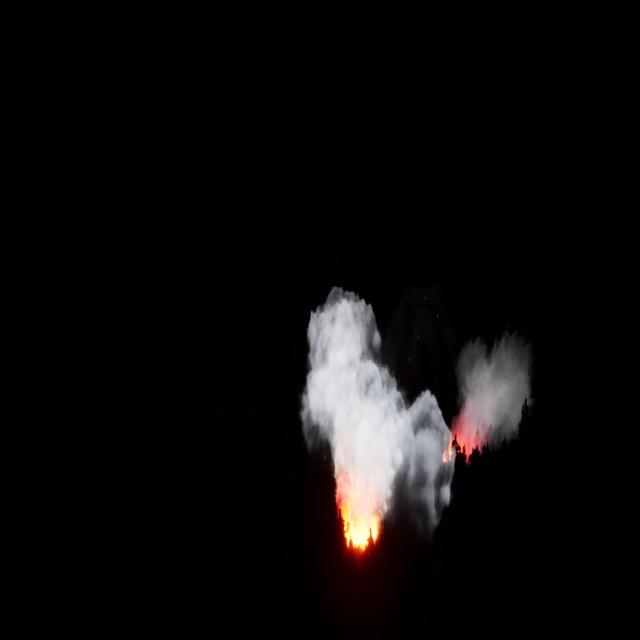fire: (336, 476, 386, 550), (444, 416, 480, 467)
smoke: (301, 286, 457, 534), (463, 329, 529, 455)
